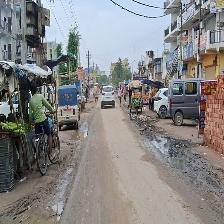Car: (54, 87, 81, 132), (99, 83, 118, 115)
Human: (26, 83, 61, 177)
Road: (63, 99, 219, 223)
